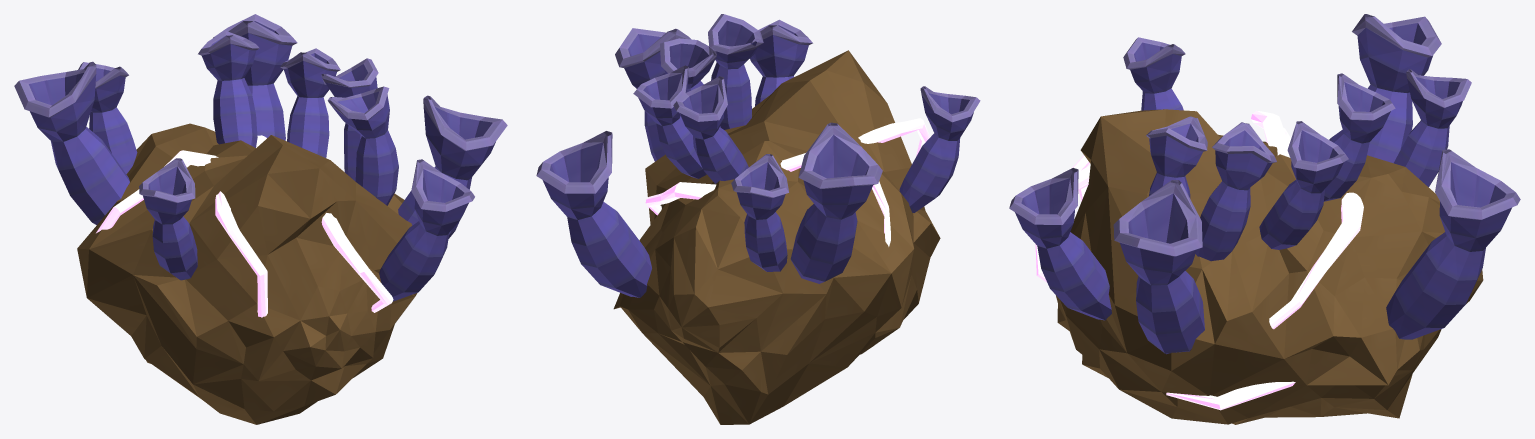
The model's file is Meteorite1.fbx.
3 renders of one model, left to right at view 1: azimuth 30°, elevation 25°; view 2: azimuth 150°, elevation 25°; view 3: azimuth 270°, elevation 25°, orthographic. The views are drawn at different scales.
Parts seen in each view (by area): view 1: Sphere.003, Cylinder.011; view 2: Sphere.003, Cylinder.011; view 3: Cylinder.011, Sphere.003.
Part boxes in pixels (box(x1,y1,x2,y2)): Sphere.003: box(77, 123, 417, 424); Cylinder.011: box(14, 14, 507, 317); Sphere.003: box(613, 50, 940, 424); Cylinder.011: box(536, 14, 980, 297); Cylinder.011: box(1009, 14, 1520, 410); Sphere.003: box(1056, 109, 1483, 424).
Size of the model in its own units: 1.58 by 1.34 by 1.74.
